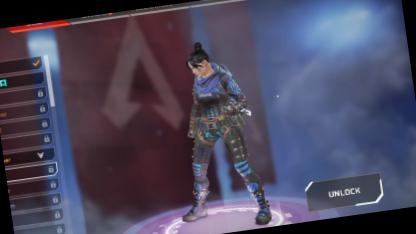Target: (177, 34, 250, 194)
